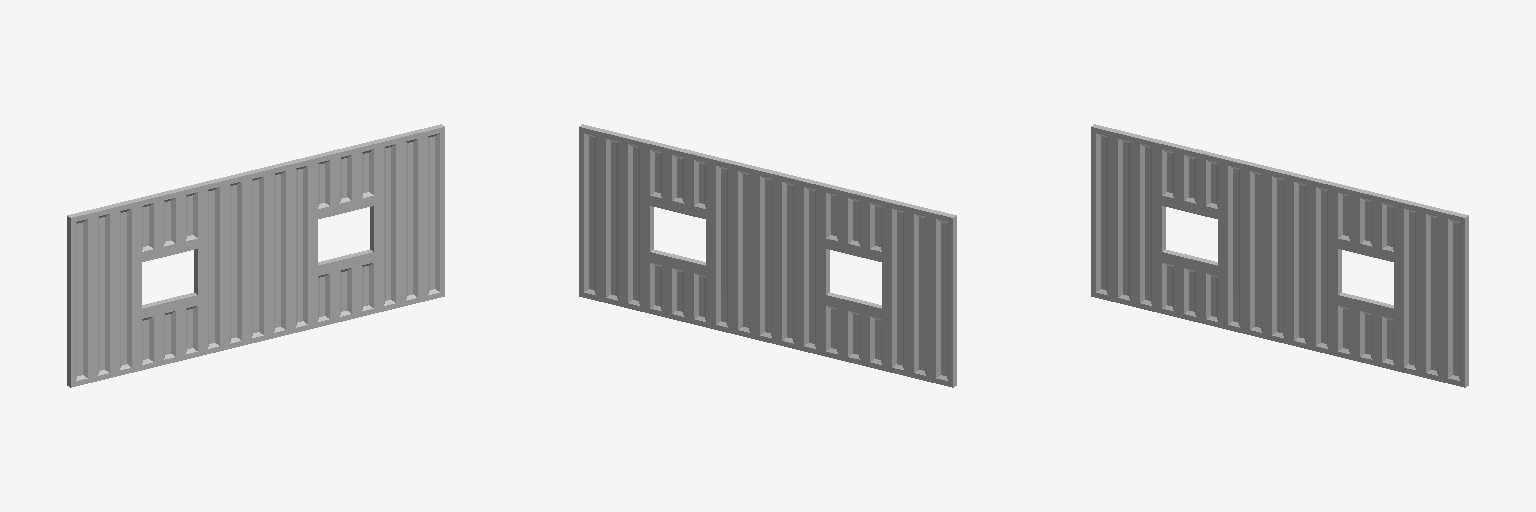
Rendered from ContainerSide.obj.
3 renders of one model, left to right at view 1: azimuth 30°, elevation 25°; view 2: azimuth 150°, elevation 25°; view 3: azimuth 330°, elevation 25°, orthographic.
Bounding box in the file's own units: 600 × 260 × 10.05.